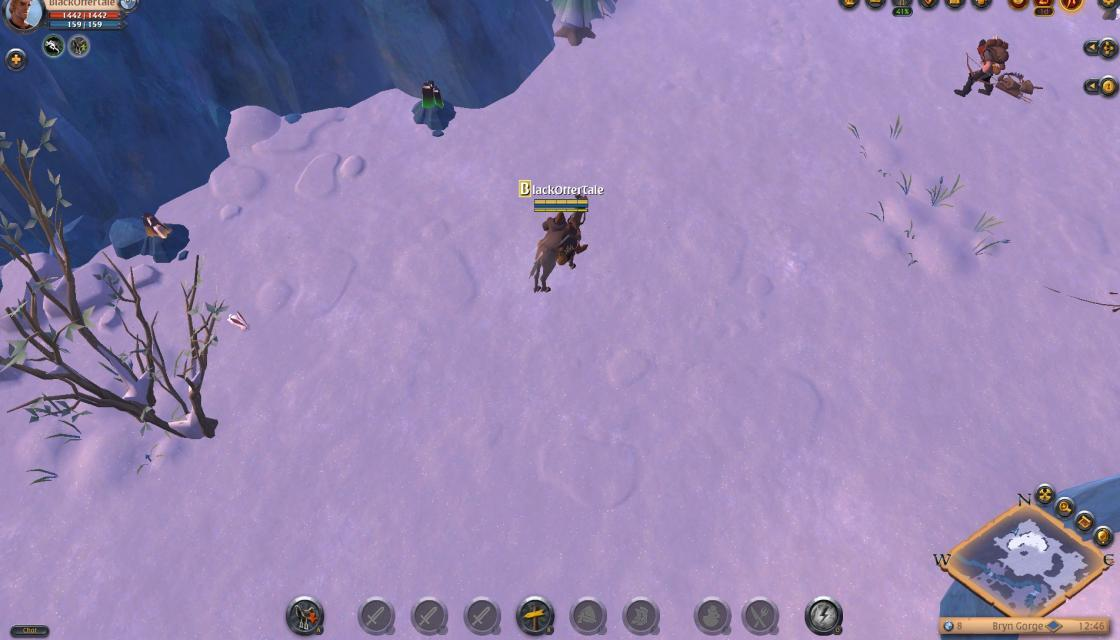copperore: (136, 206, 188, 256)
tinore: (406, 78, 460, 135)
